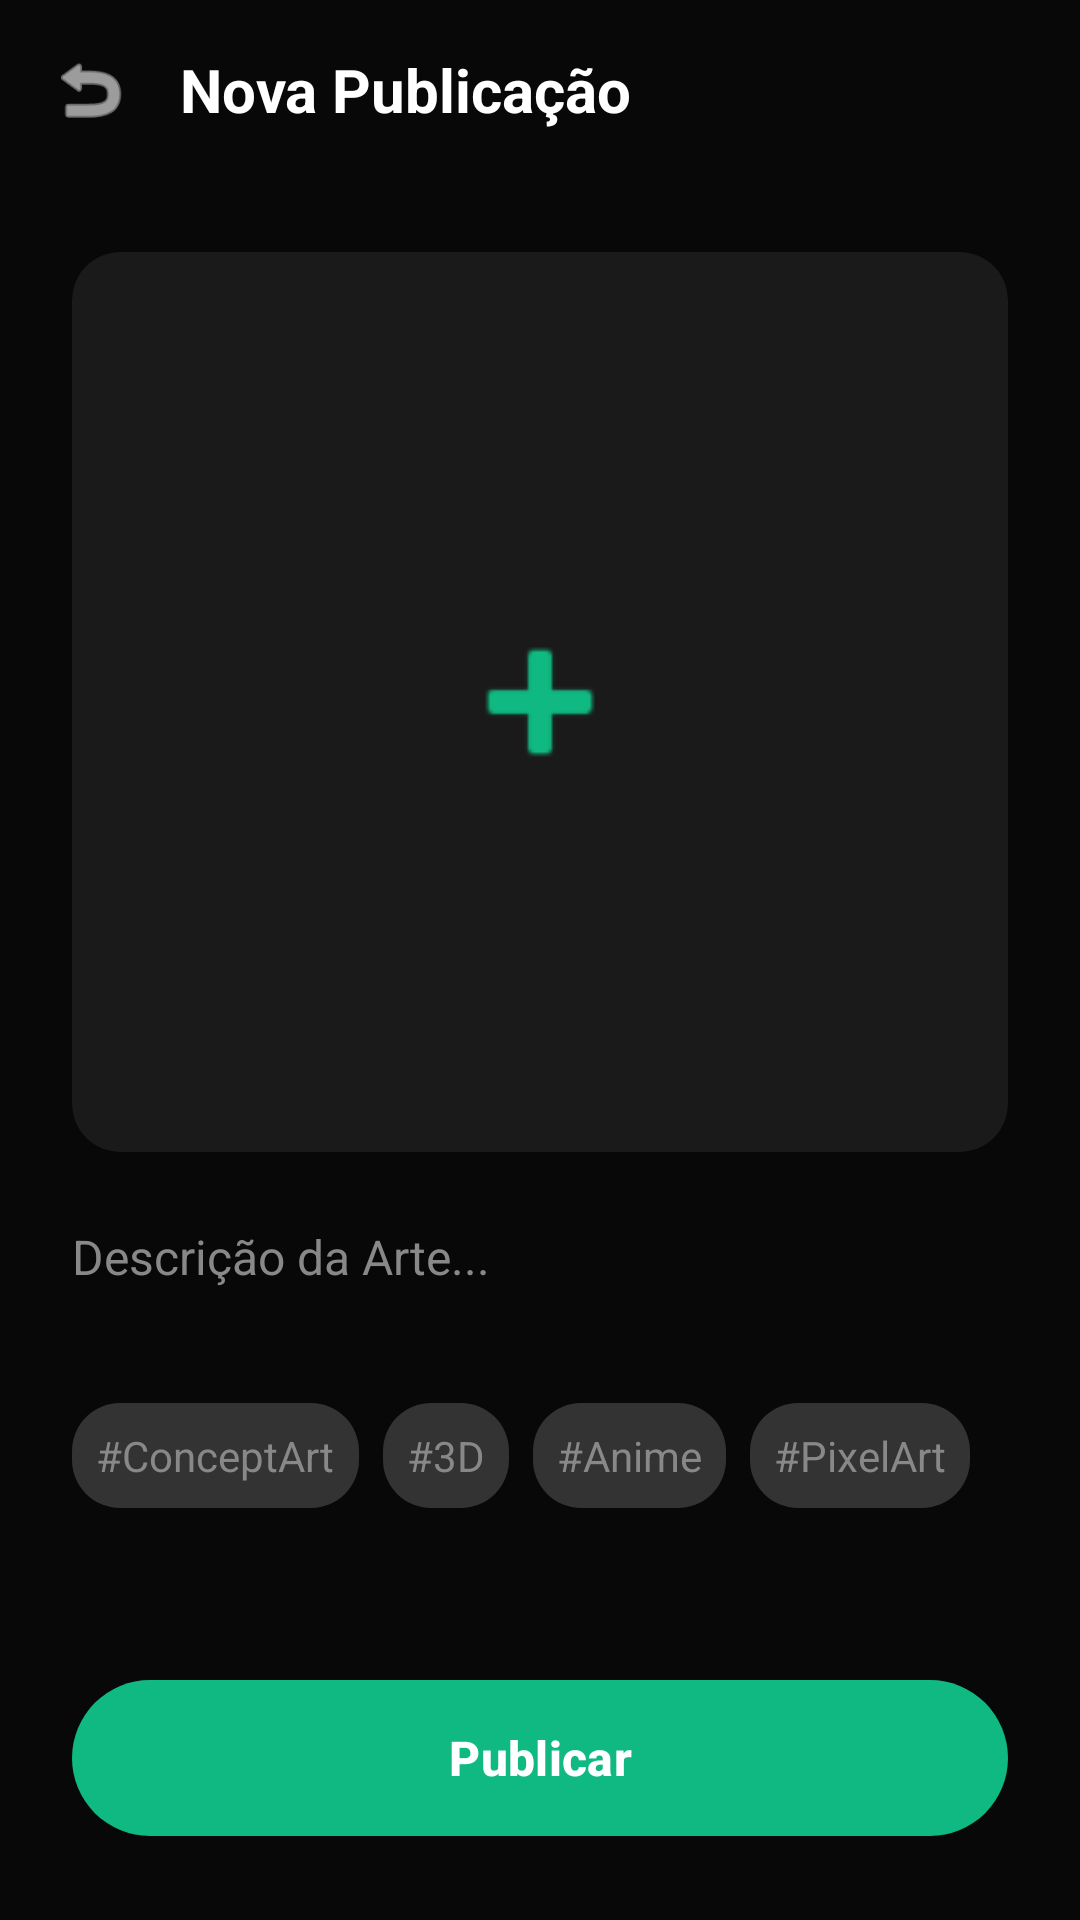

Screen size 1080 x 1920. Icon name, then its center in pixels as [x,y]:
add: [540,702]
revert: [91,90]
